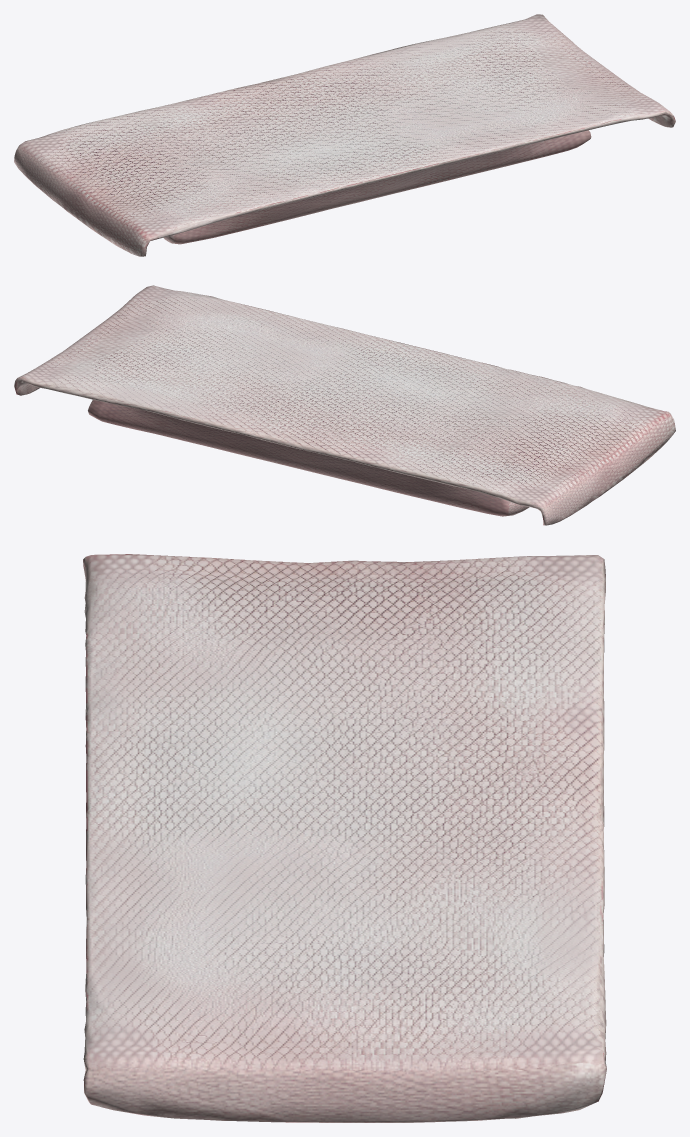
File: textag.glb
The picture shows the model from 3 angles, top to bottom: view 1: azimuth 30°, elevation 25°; view 2: azimuth 150°, elevation 25°; view 3: azimuth 270°, elevation 25°; orthographic projection. The views are drawn at different scales.
Parts seen in each view (by area): view 1: Mesh_0; view 2: Mesh_0; view 3: Mesh_0.
Boxes of the visible parts, box(x1,y1,x2,y2) form: Mesh_0: box(14, 14, 675, 256); Mesh_0: box(14, 285, 675, 525); Mesh_0: box(83, 554, 606, 1122).
Bounding box in the file's own units: 1.91 × 0.1766 × 0.8132.
1 material, 1 textured.
